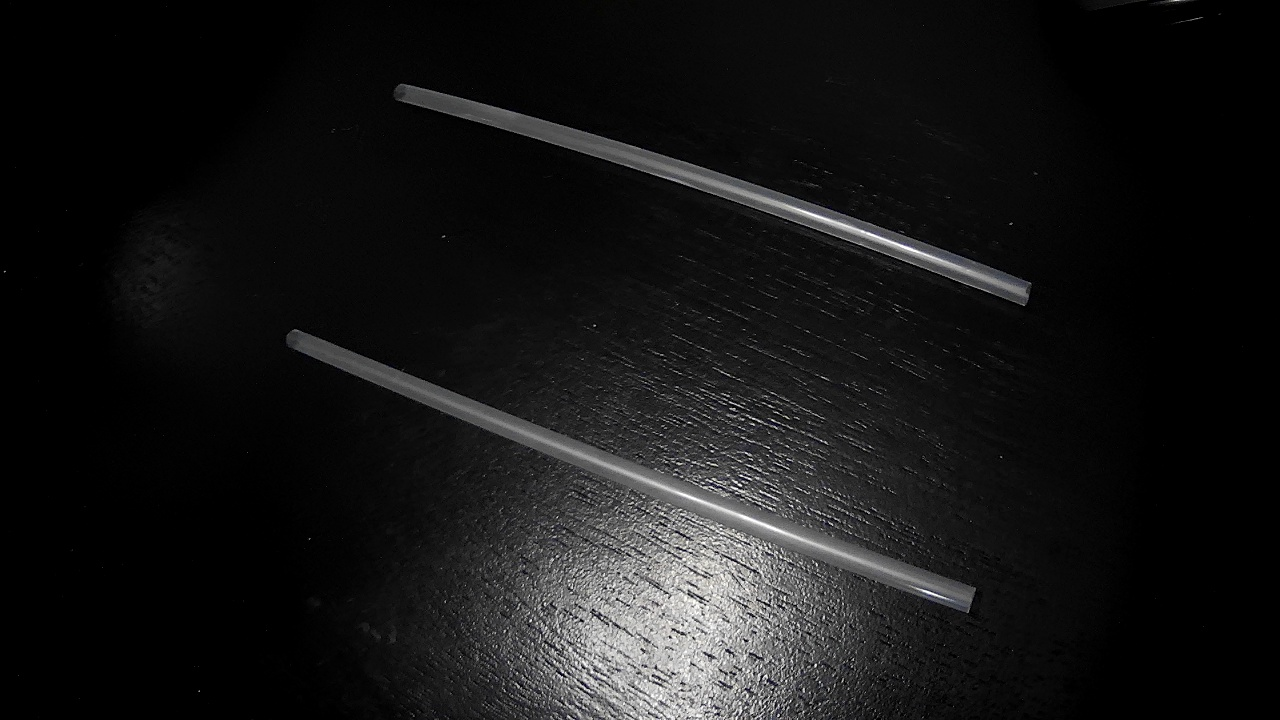trash: (267, 307, 1022, 636), (386, 67, 1102, 335)
